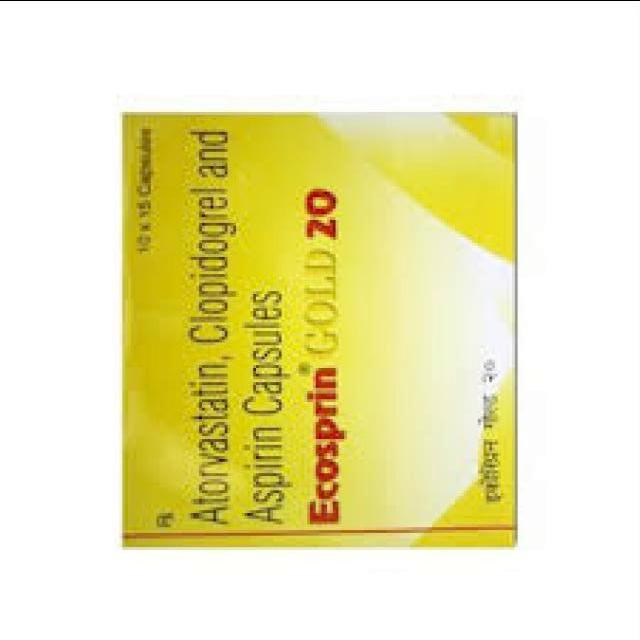authentic: (106, 99, 532, 562)
